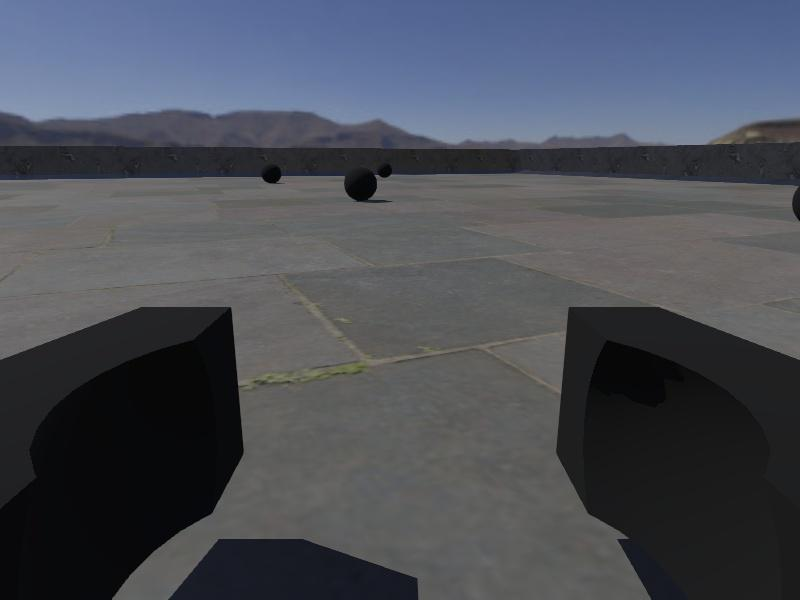black ball: (344, 166, 378, 202), (261, 162, 282, 185), (377, 162, 392, 178)
